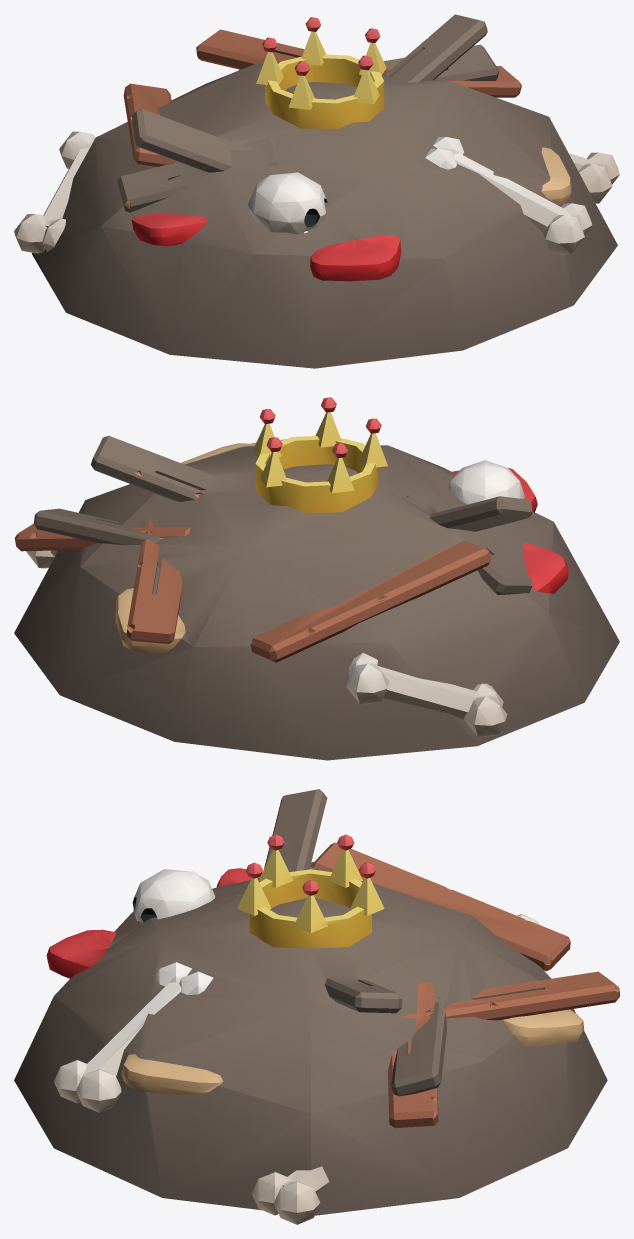
The model's file is rat_king_heap.glb.
3 renders of one model, top to bottom at view 1: azimuth 30°, elevation 25°; view 2: azimuth 150°, elevation 25°; view 3: azimuth 270°, elevation 25°, orthographic. The views are drawn at different scales.
Parts seen in each view (by area): view 1: rat_king_heap; view 2: rat_king_heap; view 3: rat_king_heap.
Part boxes in pixels (left/top/right/bottom): rat_king_heap: left=14, top=14, right=619, bottom=368; rat_king_heap: left=14, top=397, right=619, bottom=760; rat_king_heap: left=14, top=789, right=619, bottom=1224.
Size of the model in its own units: 2.74 by 1.02 by 2.45.
1 material, 1 textured.
